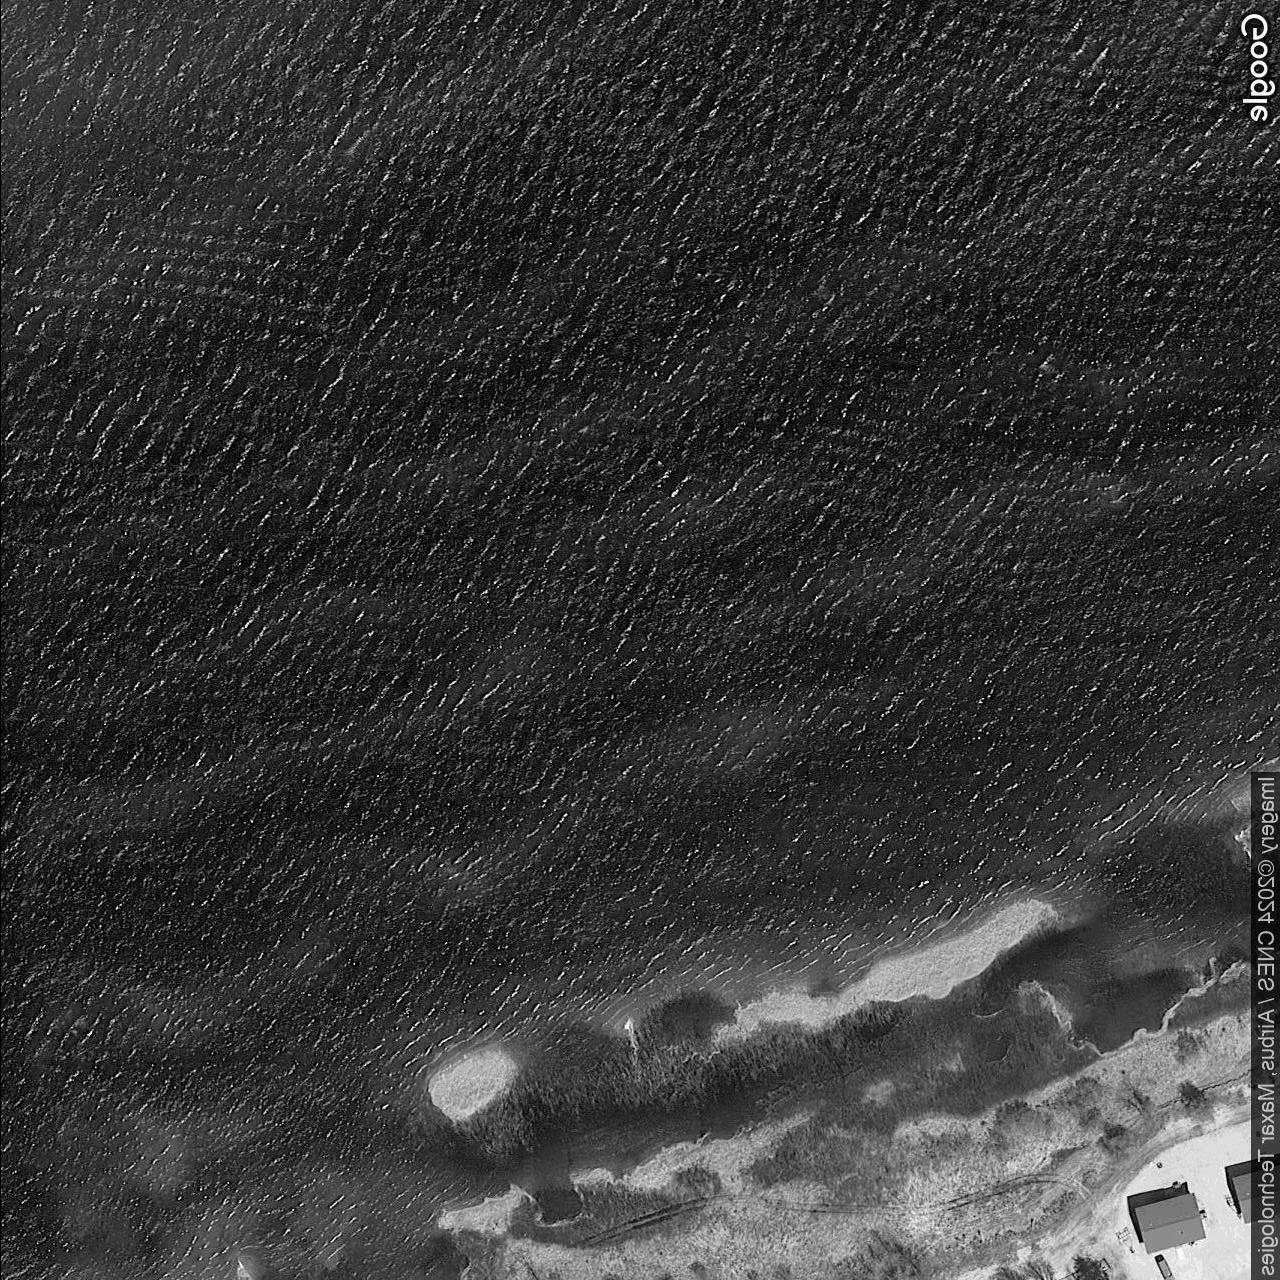House: (1132, 1191, 1206, 1254), (1231, 1171, 1251, 1225)
